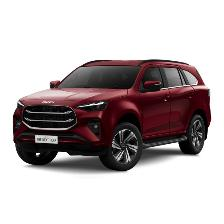NON-EV: (14, 53, 214, 173)
